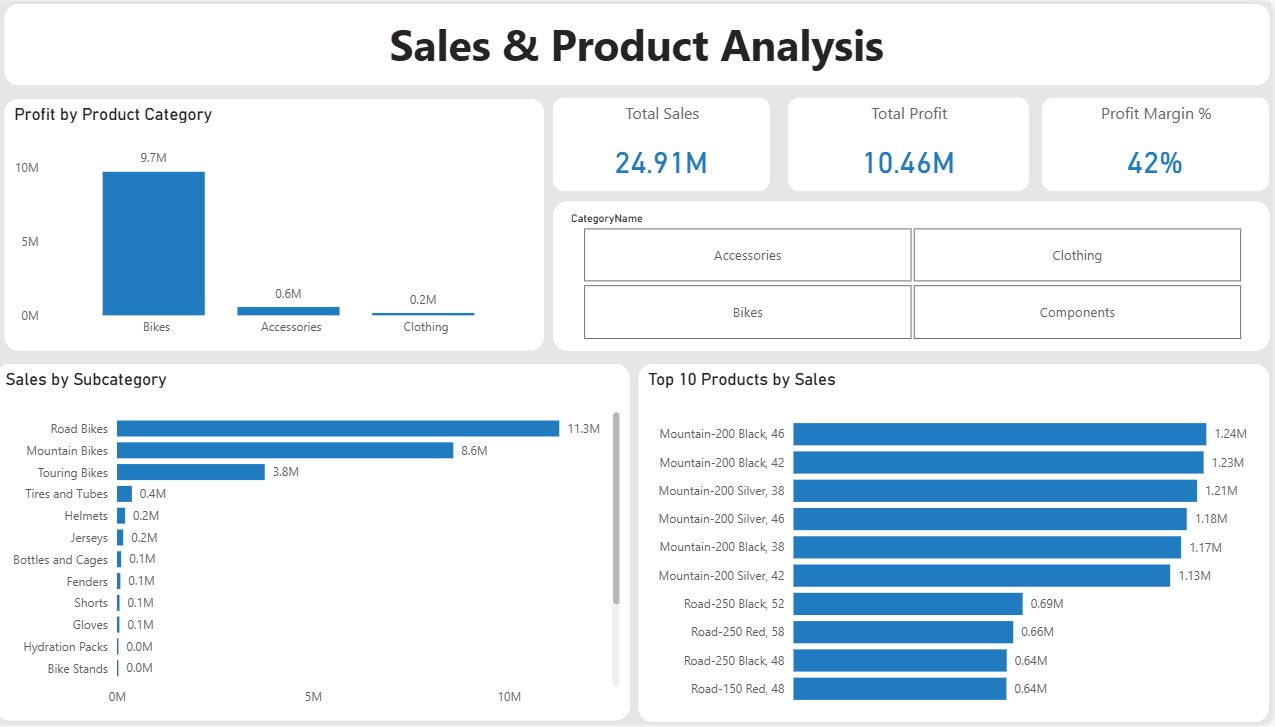

What the dashboard file says about the page in this screenshot:
{"tool":"powerbi","page":{"name":"Sales & Product Analysis","canvas":[1280,720],"ordinal":1},"visuals":[{"type":"clusteredBarChart","title":"Top 10 Products by Sales","fields":{"Category":["Product Lookup.ProductName"],"Y":["Sales.Total Sales"]},"box":[785.1,369.3,494,351],"z":0},{"type":"clusteredBarChart","title":"Sales by Subcategory","fields":{"Y":["Sales.Total Sales"],"Category":["Product Subcategories Lookup.SubcategoryName"]},"box":[3.7,377.9,763,341.2],"z":1000},{"type":"slicer","fields":{"Values":["Product Categories Lookup.CategoryName"]},"box":[0,188.3,766.7,171.2],"z":2000},{"type":"textbox","box":[12.2,0,1266.9,83.2],"z":3000},{"type":"columnChart","title":"Profit by Product Category","fields":{"Category":["Product Categories Lookup.CategoryName"],"Y":["Sales.Total Profit"]},"box":[785.1,95.4,495.2,264.1],"z":4000},{"type":"card","title":"Total Sales","fields":{"Values":["Sales.Total Sales"]},"box":[20.8,95.4,237.2,80.7],"z":5000},{"type":"card","title":"Profit Margin %","fields":{"Values":["Sales.Profit Margin %"]},"box":[531.9,95.4,234.8,80.7],"z":6000},{"type":"card","title":"Total Profit","fields":{"Values":["Sales.Total Profit"]},"box":[270.2,95.4,249.5,80.7],"z":7000}]}

Visuals, with their boxes in screenshot pixels (x1, y1, x2, y2), scaled from the page's 1280x720 canvas onto the 1275x727 screenshot:
"Top 10 Products by Sales" clusteredBarChart: [left=782, top=373, right=1274, bottom=726]
"Sales by Subcategory" clusteredBarChart: [left=4, top=382, right=764, bottom=726]
slicer - Product Categories Lookup.CategoryName: [left=0, top=190, right=764, bottom=363]
textbox: [left=12, top=0, right=1274, bottom=84]
"Profit by Product Category" columnChart: [left=782, top=96, right=1274, bottom=363]
"Total Sales" card: [left=21, top=96, right=257, bottom=178]
"Profit Margin %" card: [left=530, top=96, right=764, bottom=178]
"Total Profit" card: [left=269, top=96, right=518, bottom=178]
